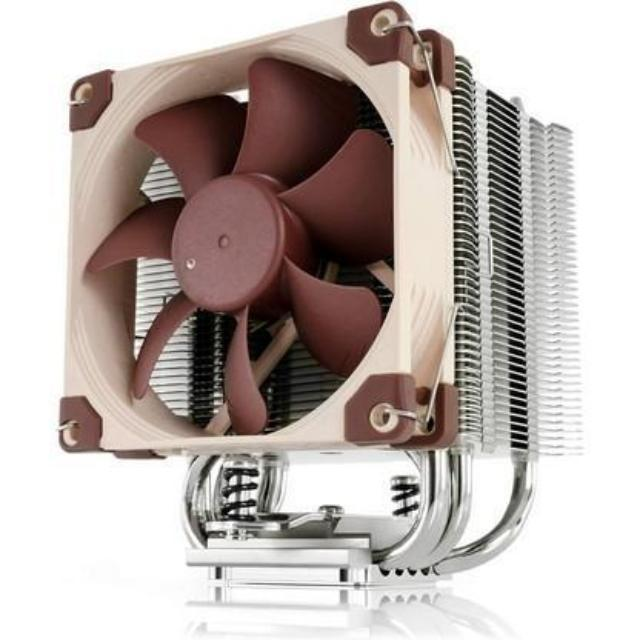CPU_Fan: (66, 0, 588, 614)
